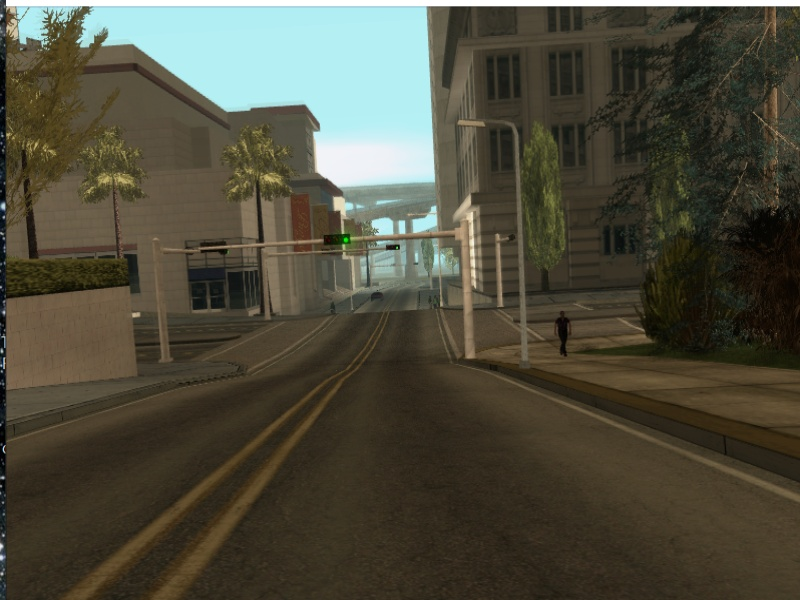person: (554, 310, 570, 356)
pole: (512, 128, 535, 369), (459, 210, 481, 365), (148, 240, 172, 366), (258, 250, 273, 321), (494, 237, 505, 308), (436, 244, 446, 311)
vehicle: (370, 290, 384, 303)
